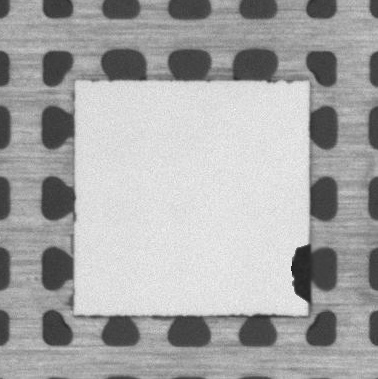DIE_BROKEN: (290, 242, 313, 308)
